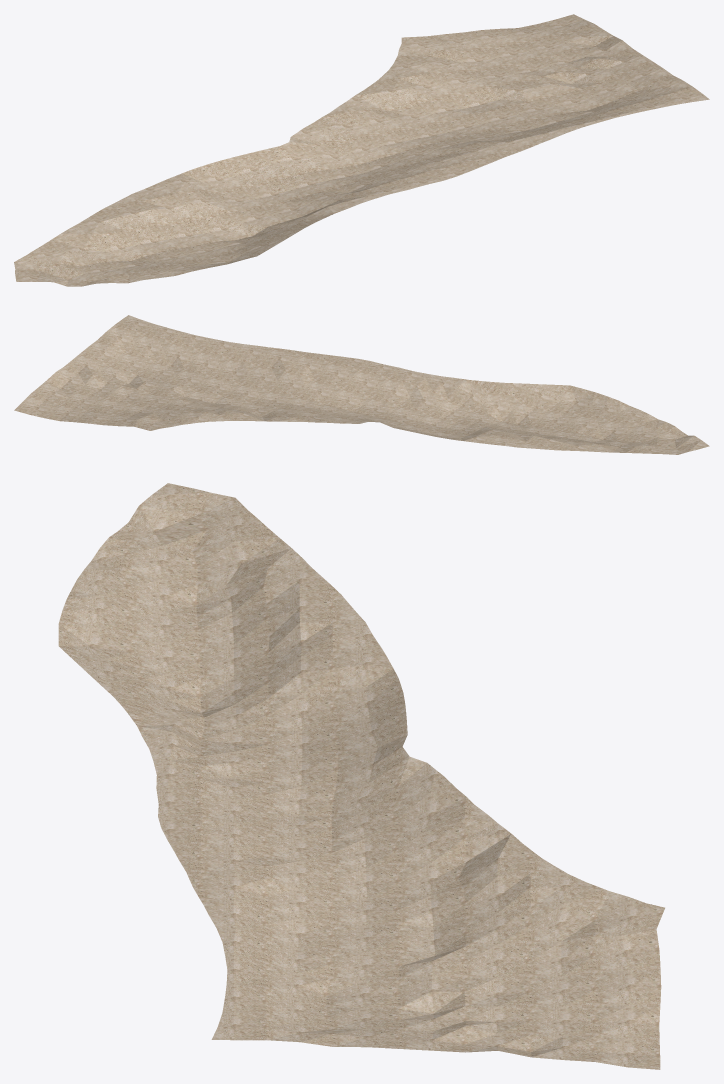
The model's file is c_carisle_mid_seabed_01.fbx.
3 views of the same model, one above another, from view 1: azimuth 30°, elevation 25°; view 2: azimuth 150°, elevation 25°; view 3: azimuth 270°, elevation 25° (orthographic). The views are drawn at different scales.
Visible parts, largest first — view 1: c_carisle_mid_seabed_01; view 2: c_carisle_mid_seabed_01; view 3: c_carisle_mid_seabed_01.
Part boxes in pixels (left/top/right/bottom): c_carisle_mid_seabed_01: left=14, top=14, right=709, bottom=286; c_carisle_mid_seabed_01: left=14, top=315, right=709, bottom=454; c_carisle_mid_seabed_01: left=58, top=483, right=664, bottom=1069.
Bounding box in the file's own units: 96.72 × 44.31 × 2.96.
